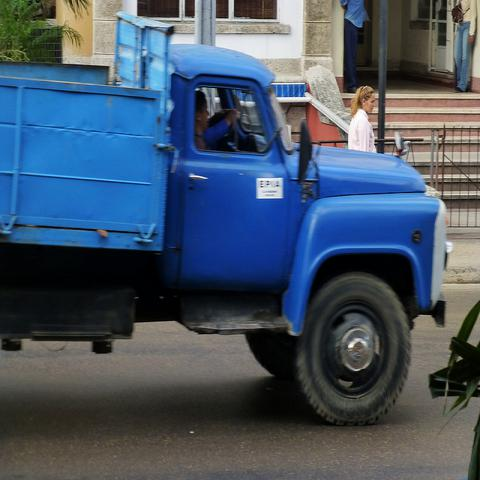truck: (3, 11, 450, 427)
